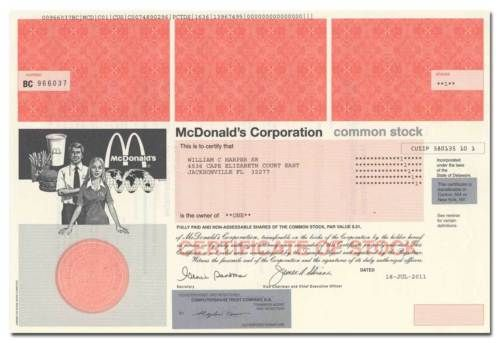mcdonalds: (101, 130, 147, 166)
